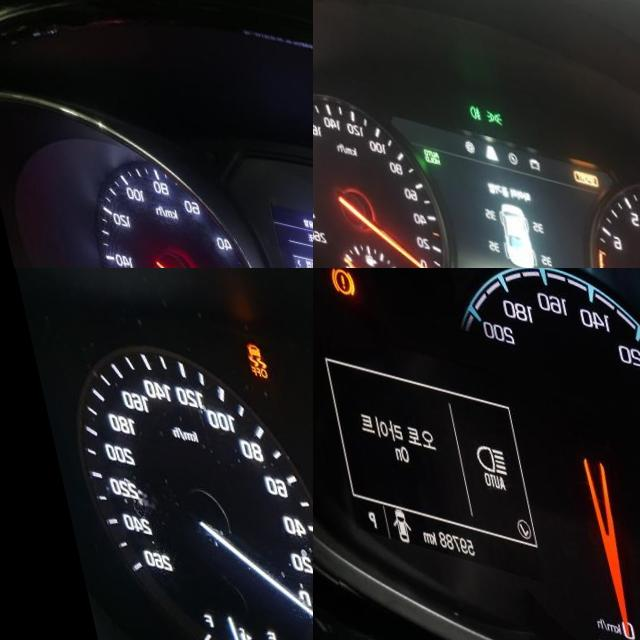FrontFogLight: (460, 88, 475, 106)
SideLamp: (477, 93, 496, 111)
